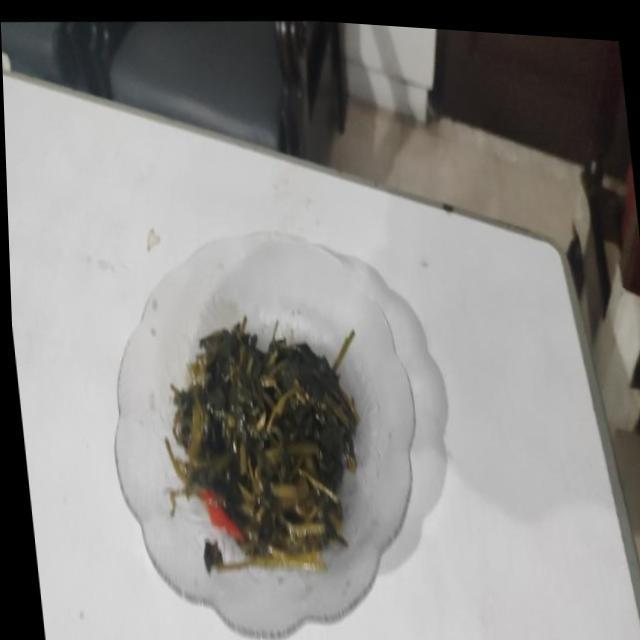tumis_kangkung: (164, 318, 358, 572)
